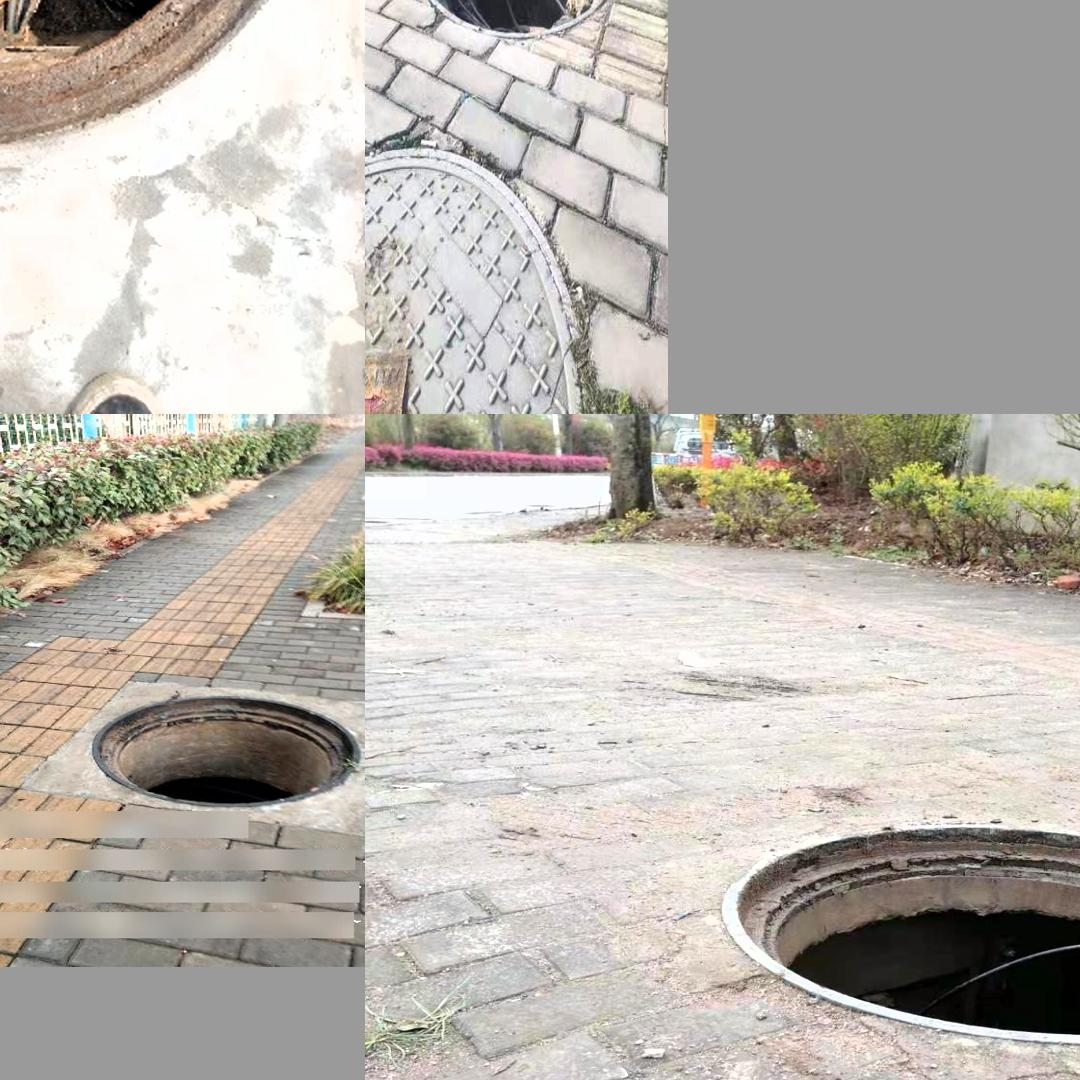lose: (720, 820, 1080, 1042), (367, 146, 587, 414), (0, 0, 340, 147), (93, 693, 365, 808), (417, 0, 616, 40)
